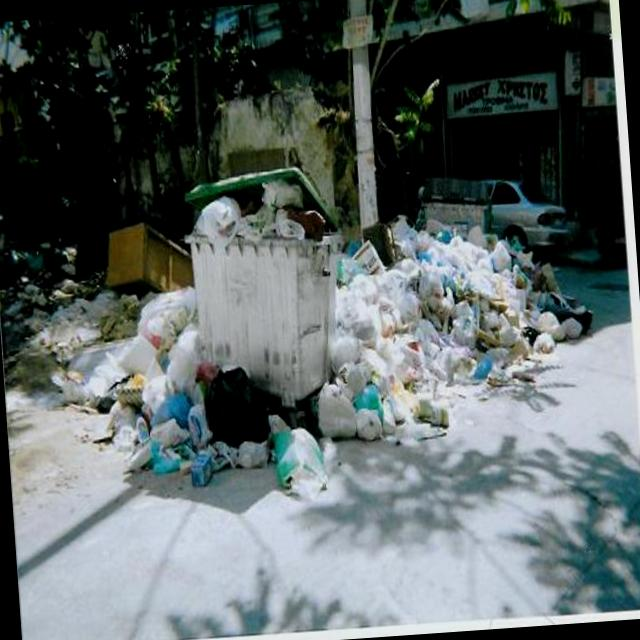garbage: (21, 137, 572, 524)
